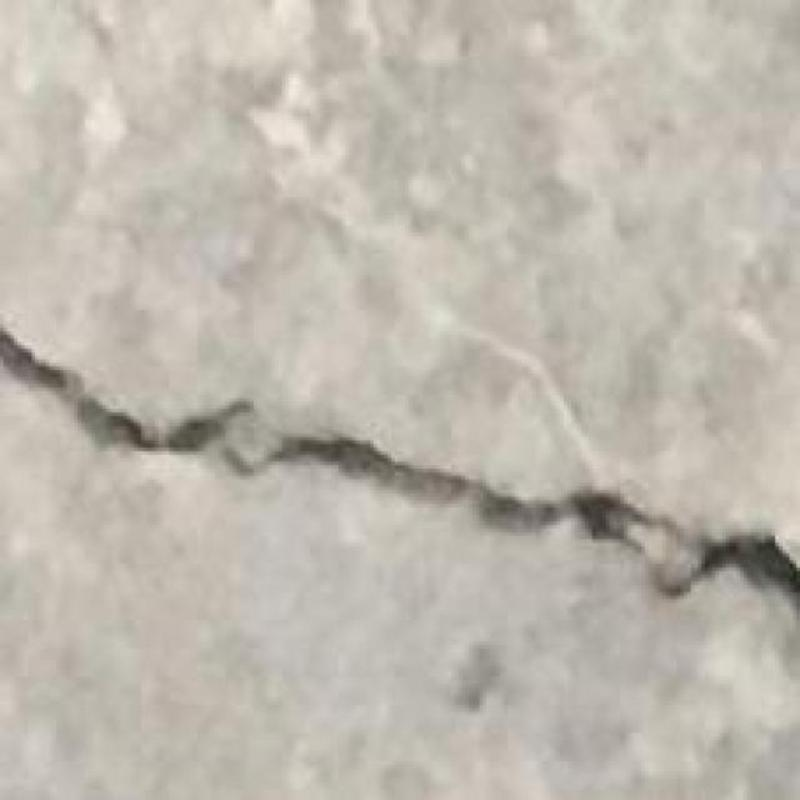pothole: (0, 325, 799, 608)
